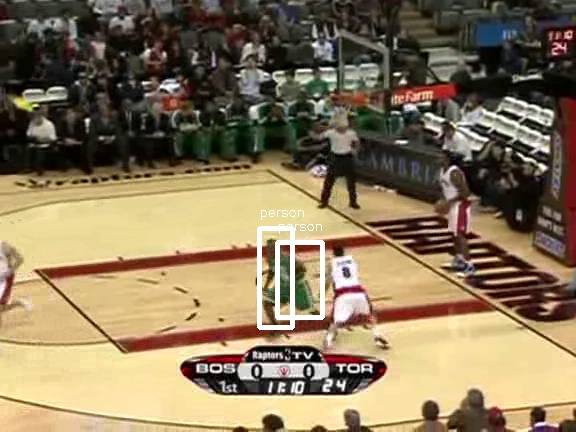person: (272, 242, 306, 323), (271, 242, 305, 323), (273, 242, 307, 323), (272, 241, 306, 322), (272, 243, 306, 324)
target_negative: (17, 53, 113, 167), (209, 149, 272, 294), (526, 44, 575, 172), (268, 353, 317, 391), (179, 352, 195, 373), (511, 312, 514, 345)
